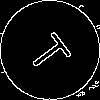T: (25, 25, 80, 77)
